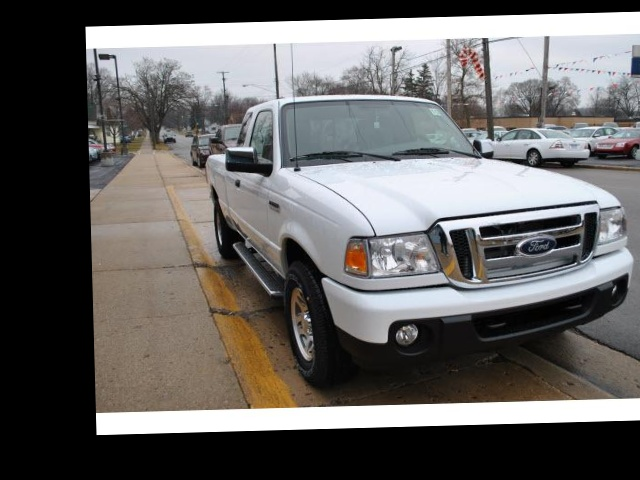car: (187, 79, 640, 408), (477, 112, 605, 177)
